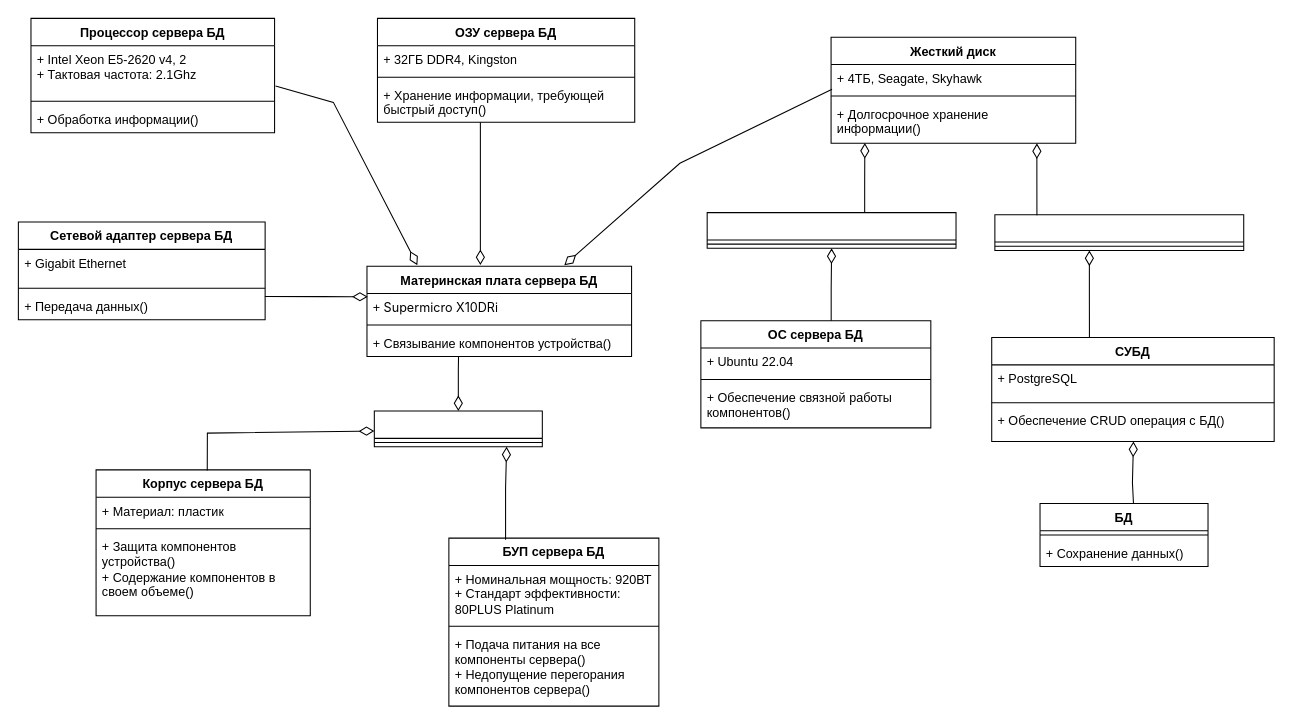
This 1293x728 diagram has some shape labels left out. Each missing label, with the centre of its shape:
"Прикладное ПО сервера БД" goes at pixel 1119 232.
"Сервер БД" goes at pixel 457 428.
"Системное ПО сервера БД" goes at pixel 831 230.
